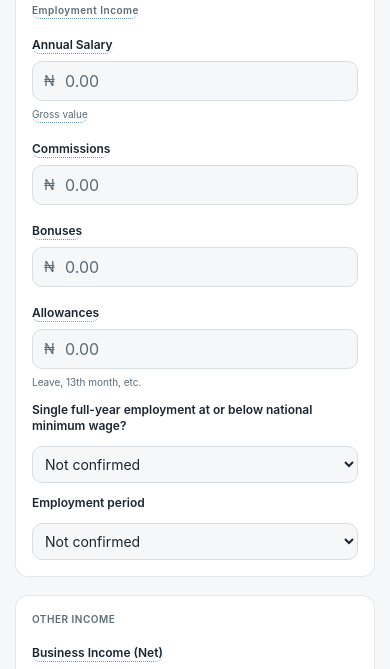
it: TaxCalculator glossary integration › explains why an employer vehicle cannot be estimated instead of showing a number
Type "1000000" into the field labelled "Annual Salary". click: (195, 80)
box: [32,60,358,100]
(page scrolled)
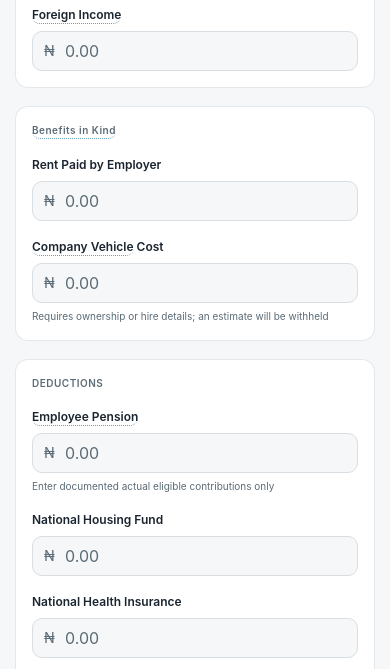
Type "100000" into the field labelled "Company Vehicle Cost". click: (195, 282)
box: [32,262,358,302]
(page scrolled)
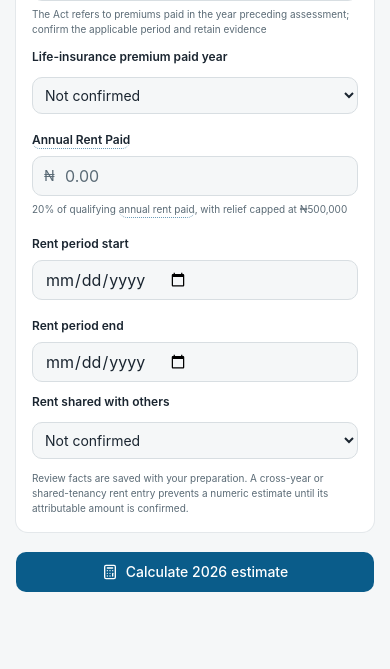
Click the button "Calculate 2026 estimate". click: (195, 572)
box: [16,552,374,592]
(page scrolled)
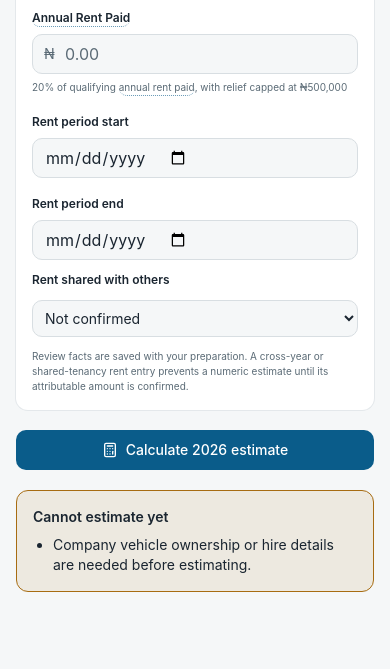
Now the message shows "Cannot estimate yet", box [33,508,168,524]
